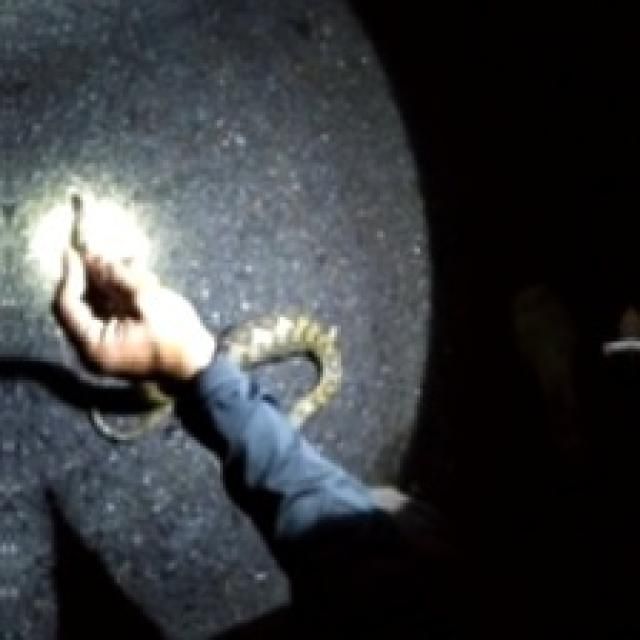reticulated python: (217, 311, 340, 426), (90, 381, 172, 442)
